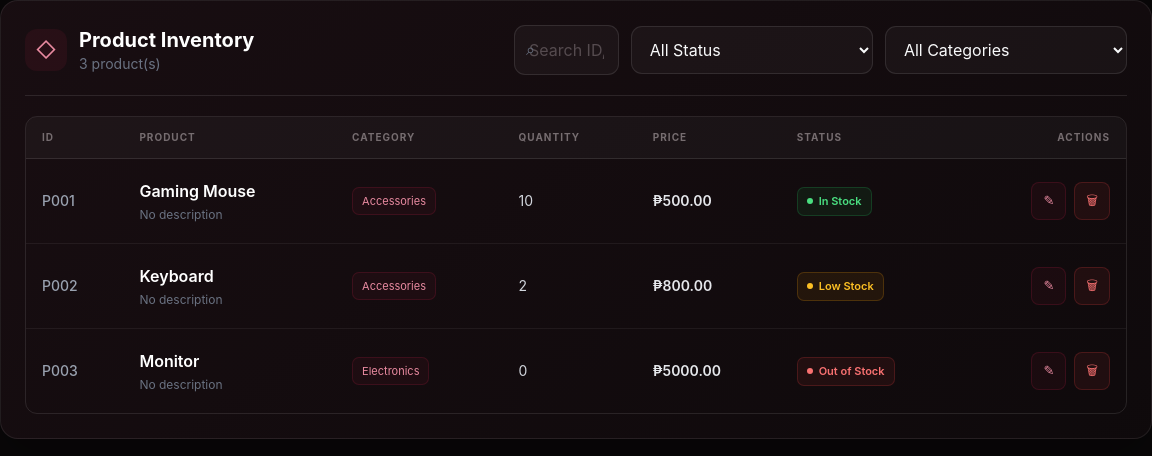
it: Inventory Management System › should display only Low Stock products when the Low Stock filter is selected
Select "Low Stock" in the 1st dropdown at (752, 50), box [631,26,873,74]
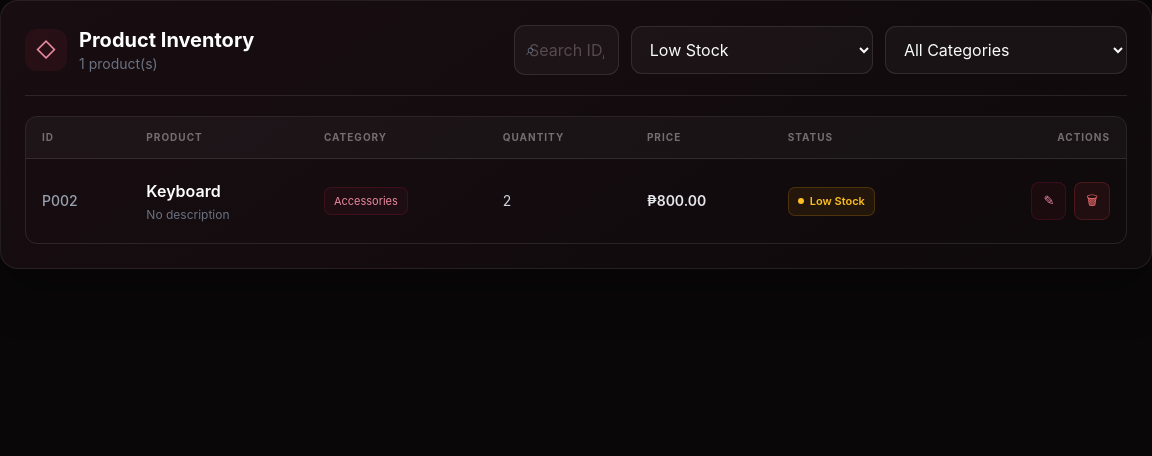
expect the text "Keyboard" is shown: met, box [146,181,221,201]
expect the text "Gaming Mouse" is gone: met
expect the text "Monitor" is gone: met
